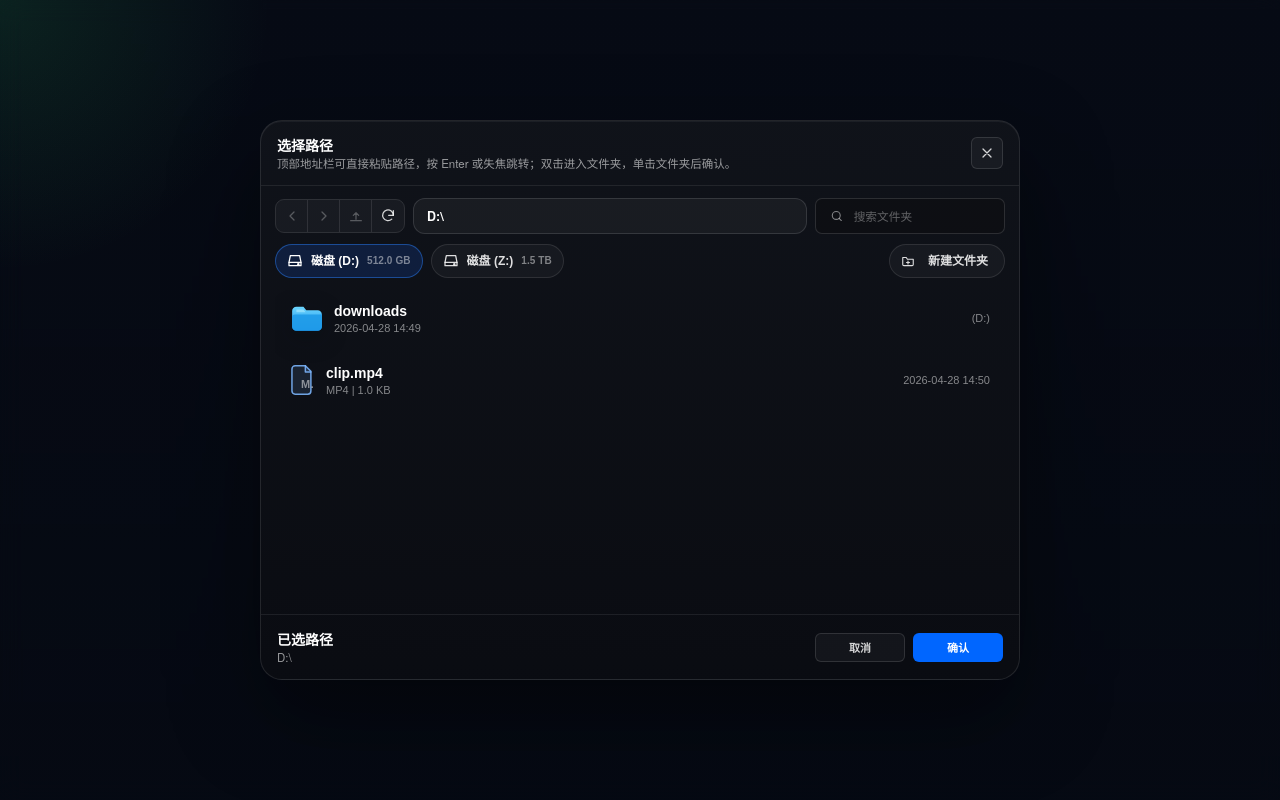
Test case: FileManagerApp › shows selected path in directory picker footer
The width and height of the screenshot is (1280, 800).
Click the text "downloads" at (371,310), box [334, 302, 407, 318]
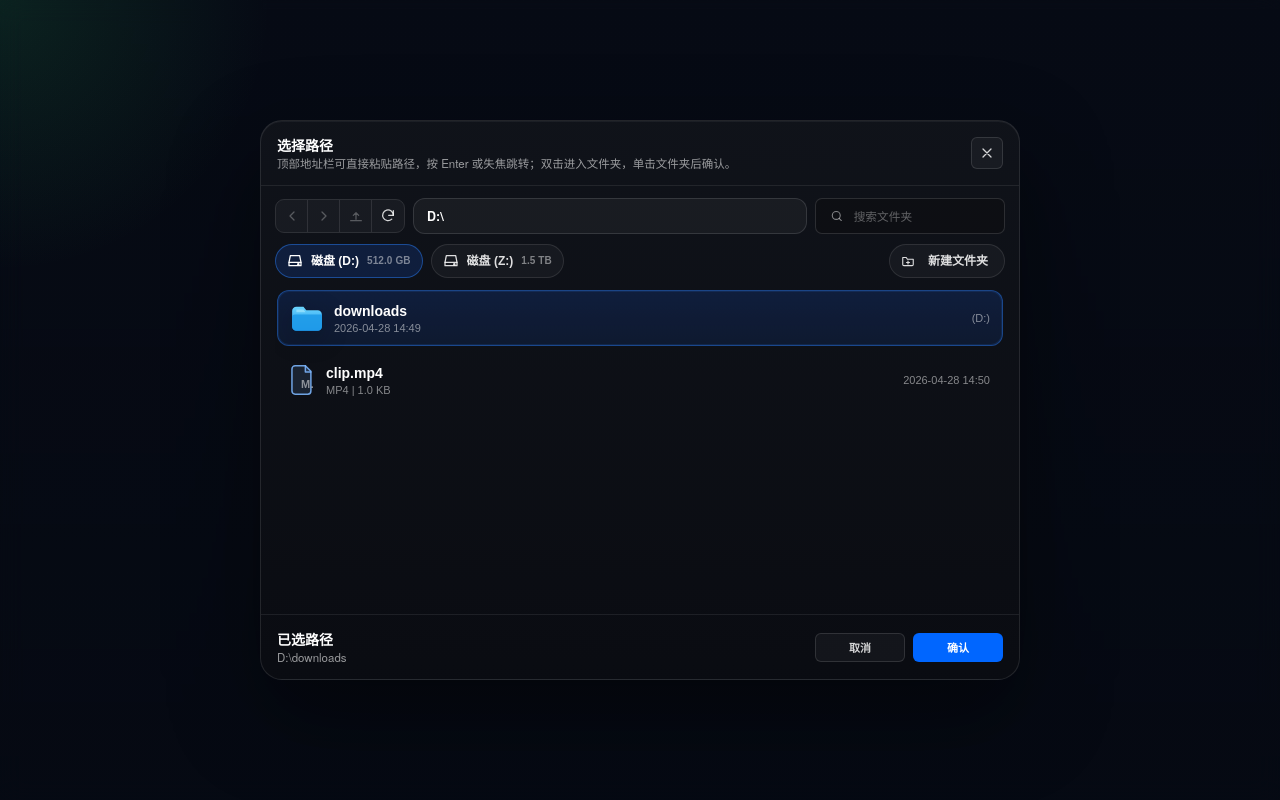
Expected: the text "已选路径" is shown, [277, 629, 333, 649]
Now the text "D:\\downloads" is shown, box [277, 649, 347, 665]
